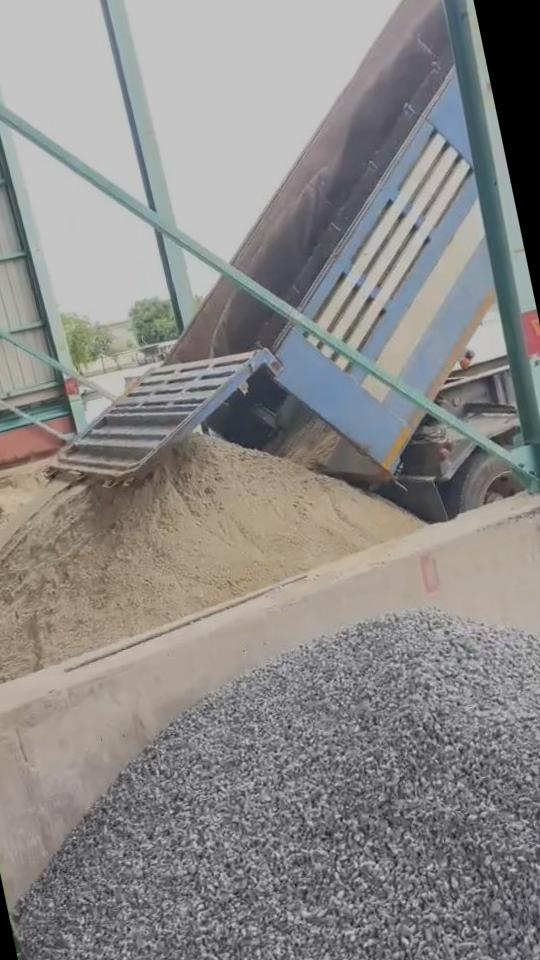gravel: (18, 611, 540, 960)
sand: (0, 436, 417, 690), (0, 475, 45, 537)
